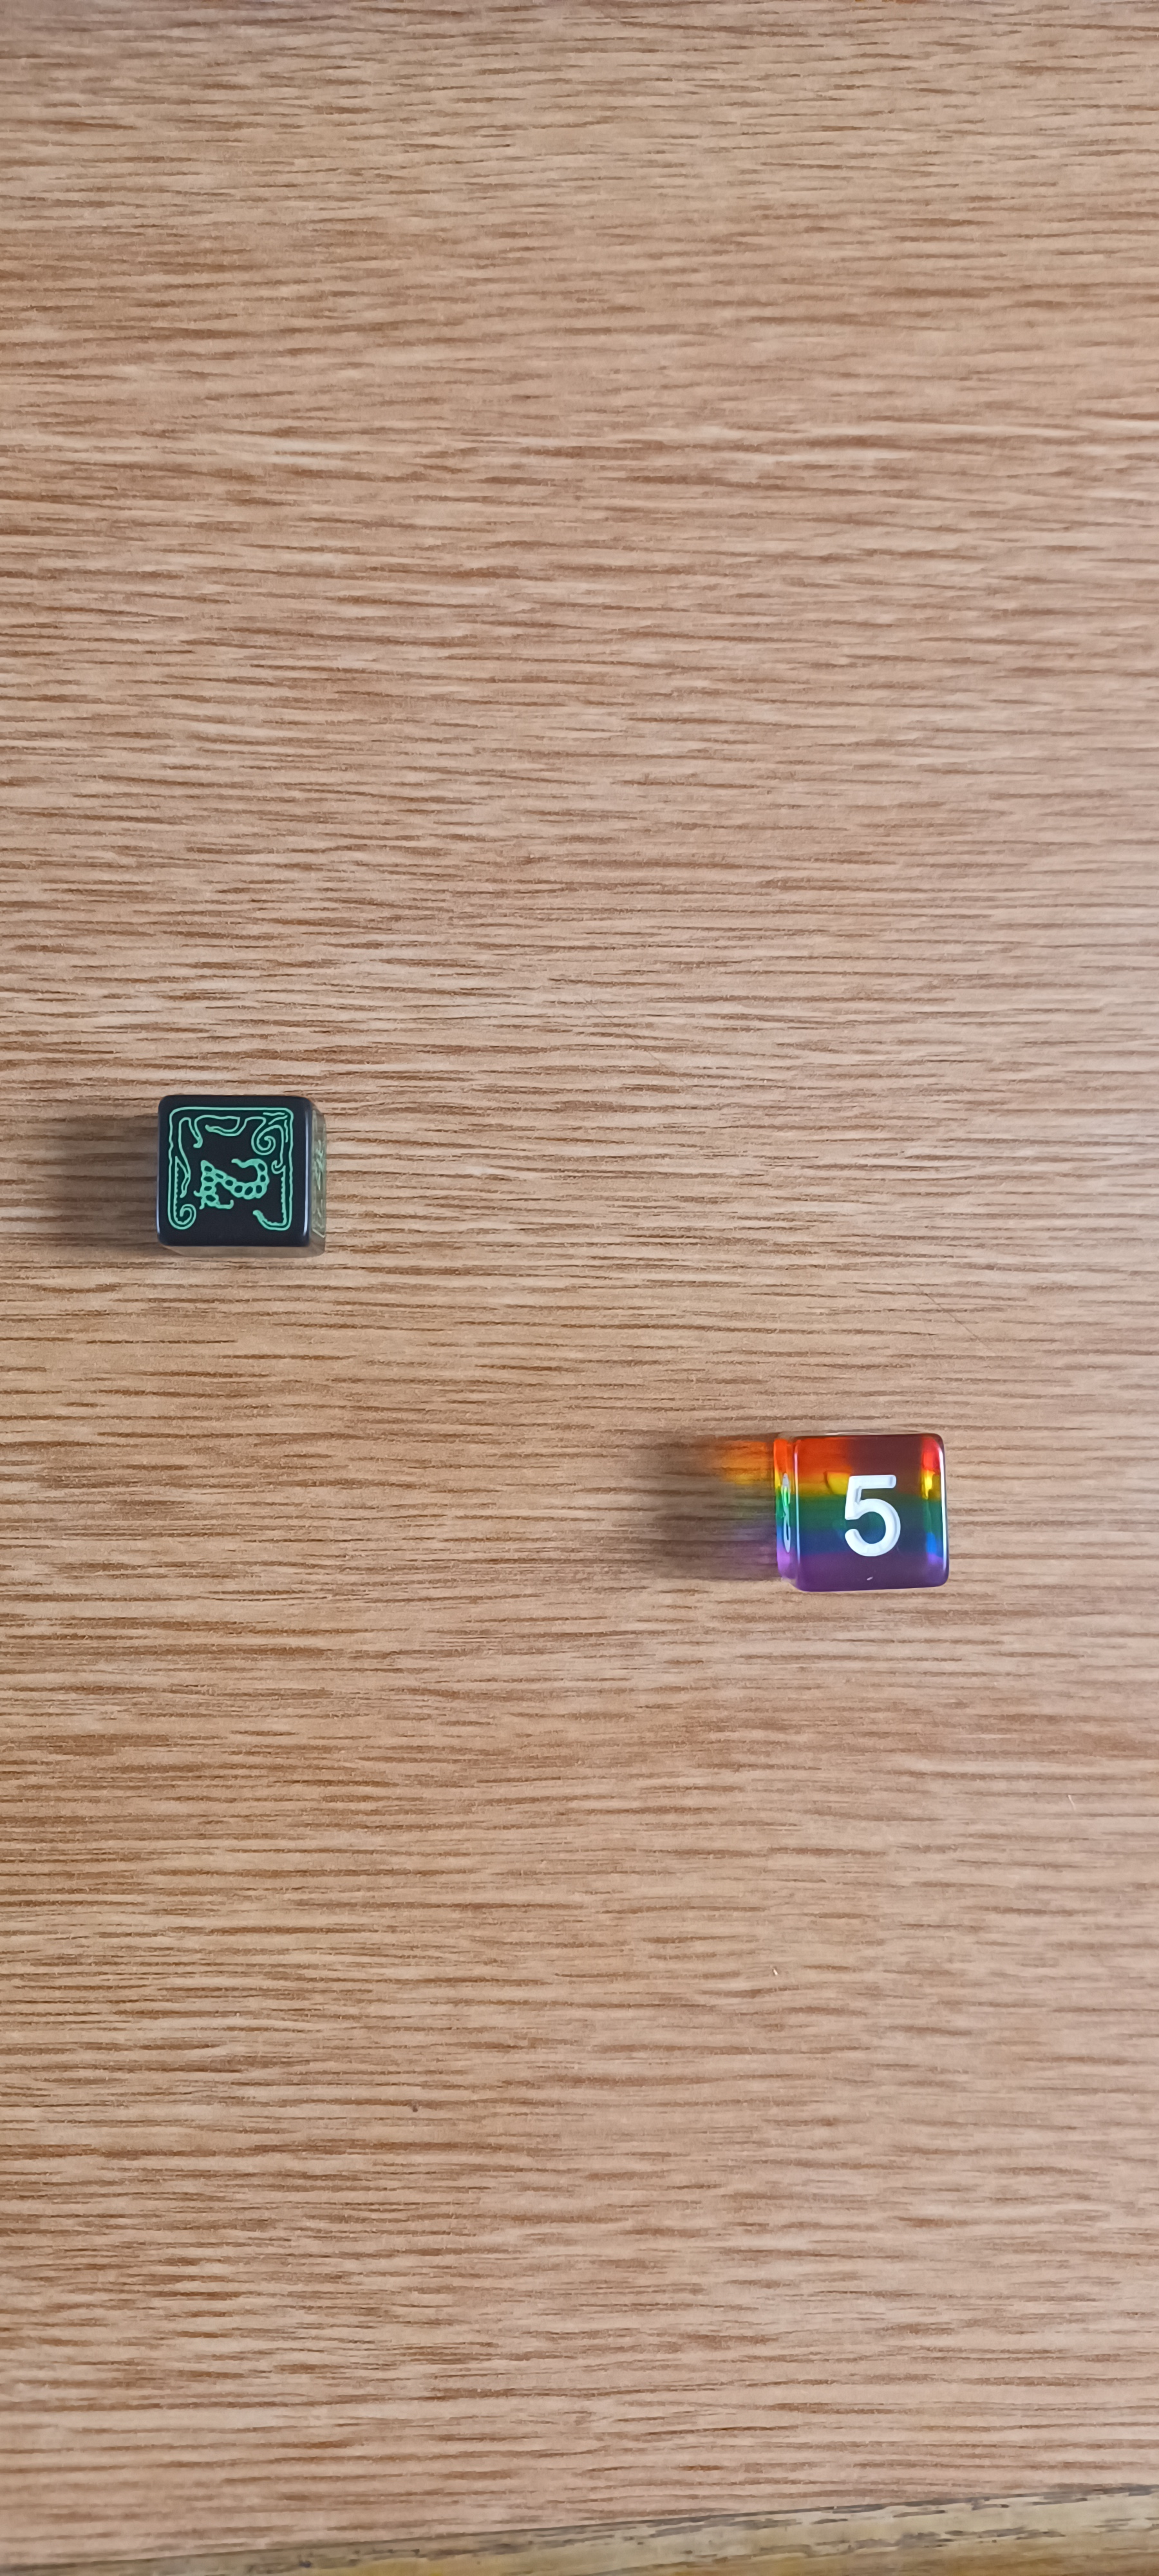five: (722, 1401, 995, 1631)
two: (105, 1050, 376, 1316)
